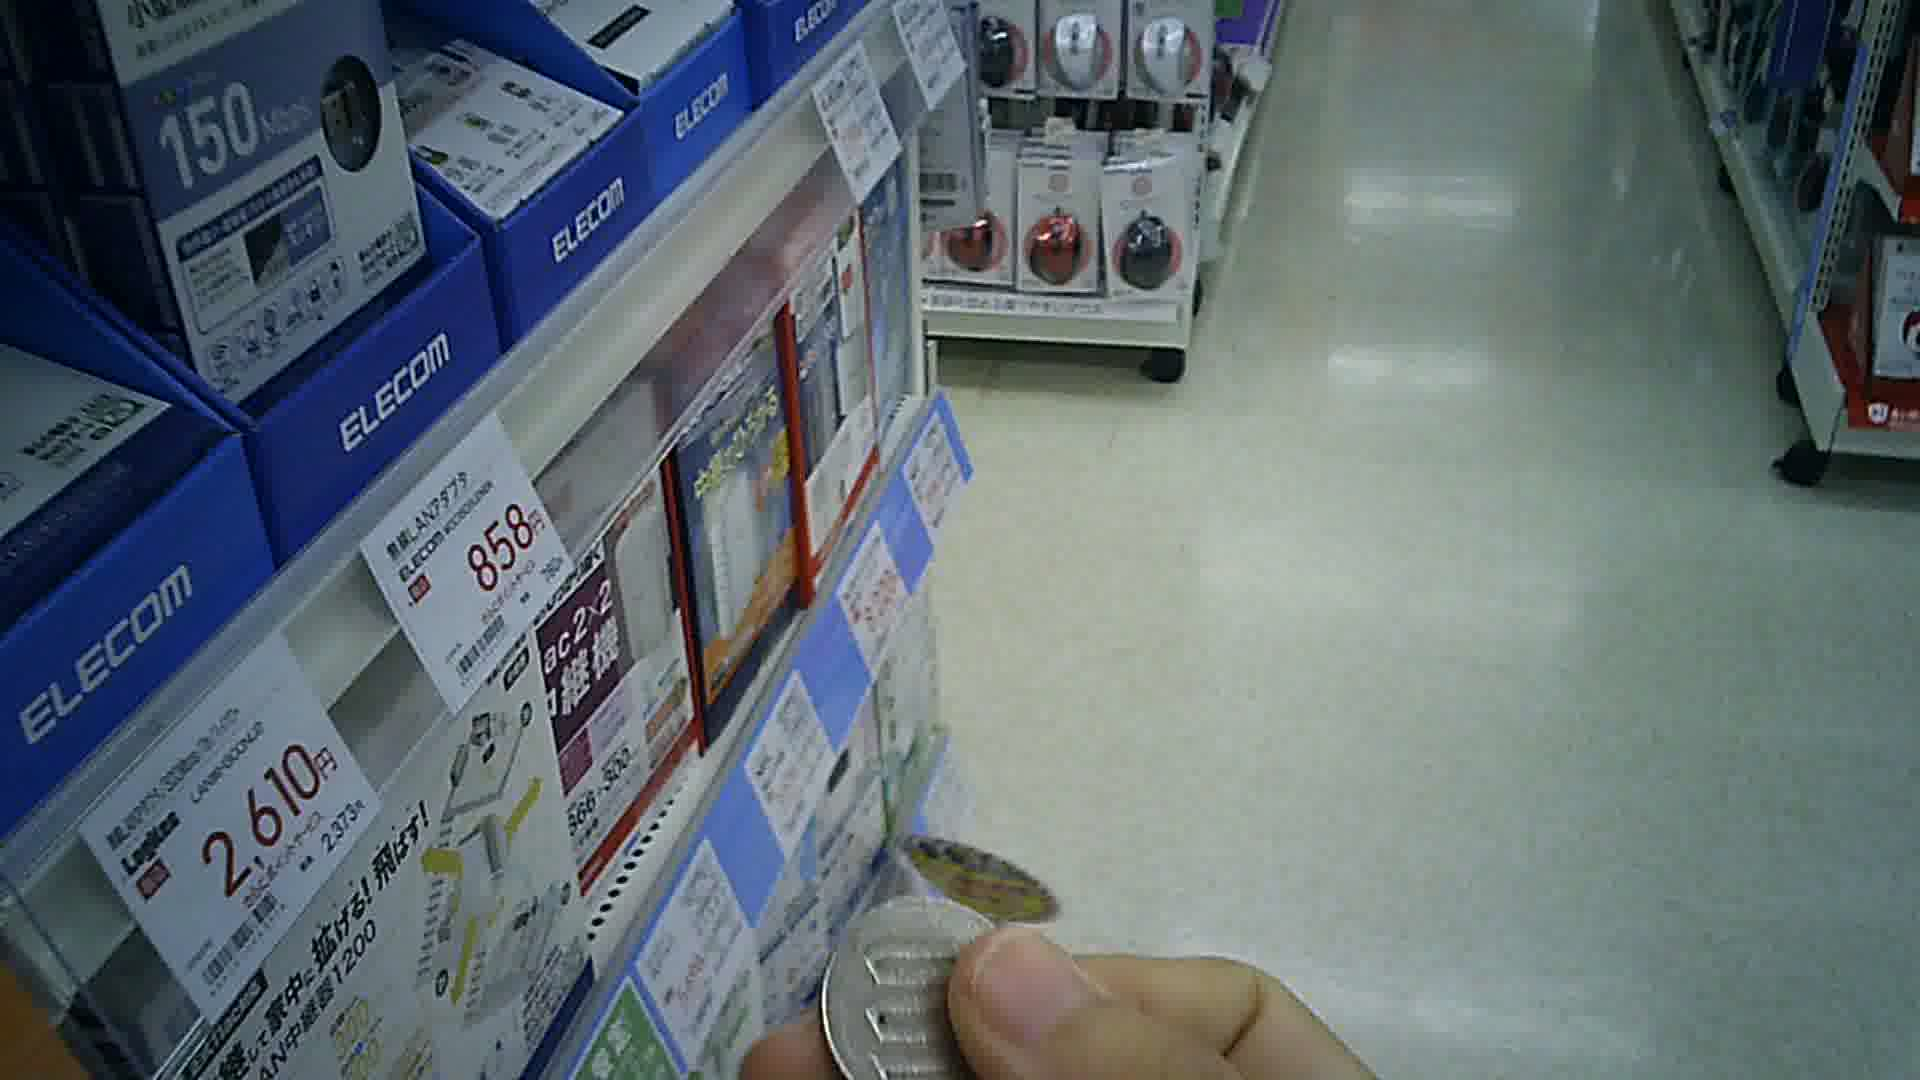100 Yen: (822, 898, 1009, 1079)
